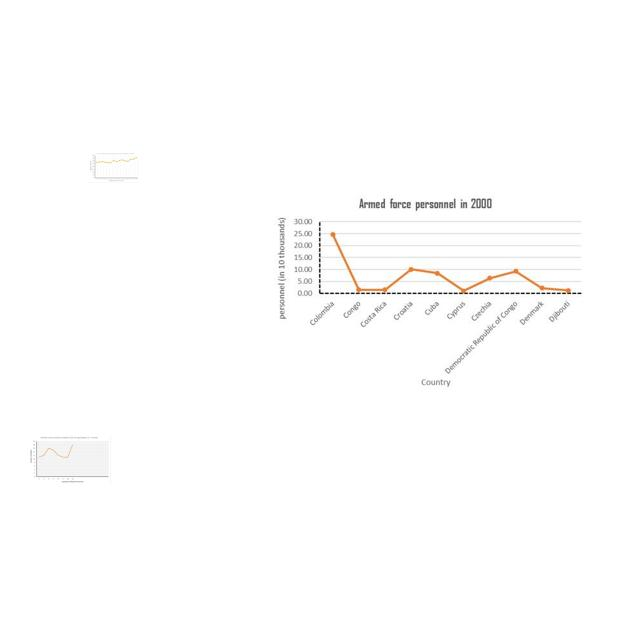Graph: (274, 190, 587, 392), (28, 435, 111, 485), (89, 152, 139, 183)
